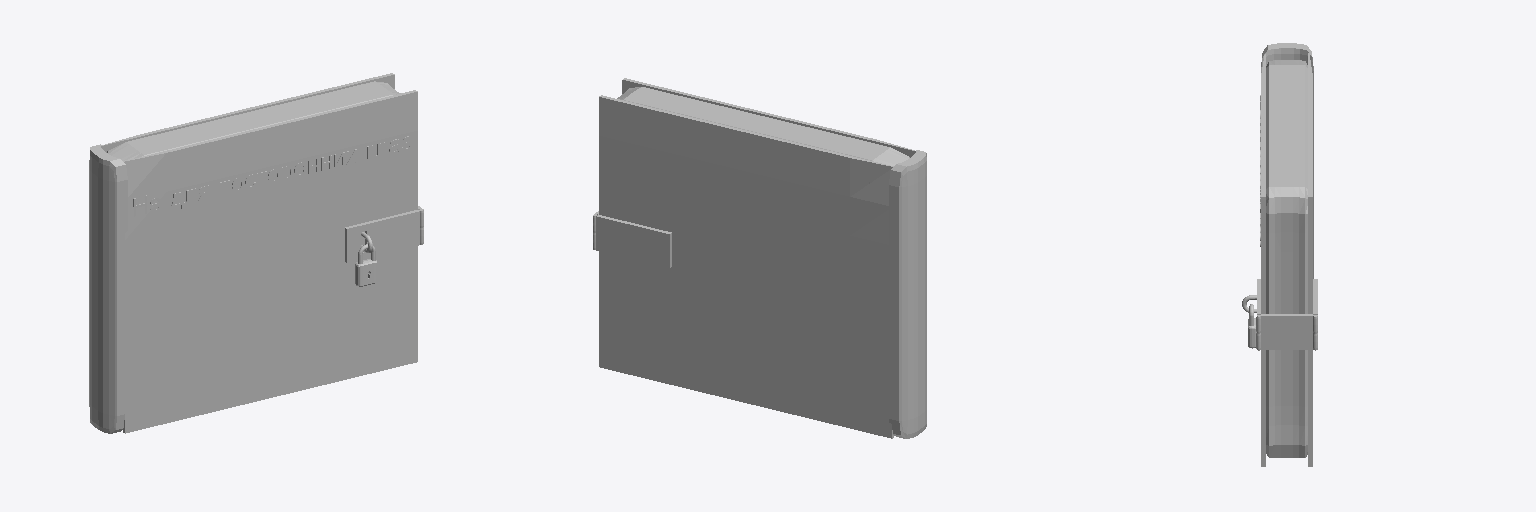
The model's file is дневник.obj.
The picture shows the model from 3 angles: view 1: azimuth 30°, elevation 25°; view 2: azimuth 150°, elevation 25°; view 3: azimuth 270°, elevation 25°; orthographic projection.
Visible parts, largest first — view 1: Box001; view 2: Box001; view 3: Box001.
Boxes of the visible parts, box(x1,y1,x2,y2) form: Box001: box(89, 73, 423, 433); Box001: box(593, 78, 926, 438); Box001: box(1242, 43, 1317, 466).
Size of the model in its own units: 77.2 by 64 by 16.2.